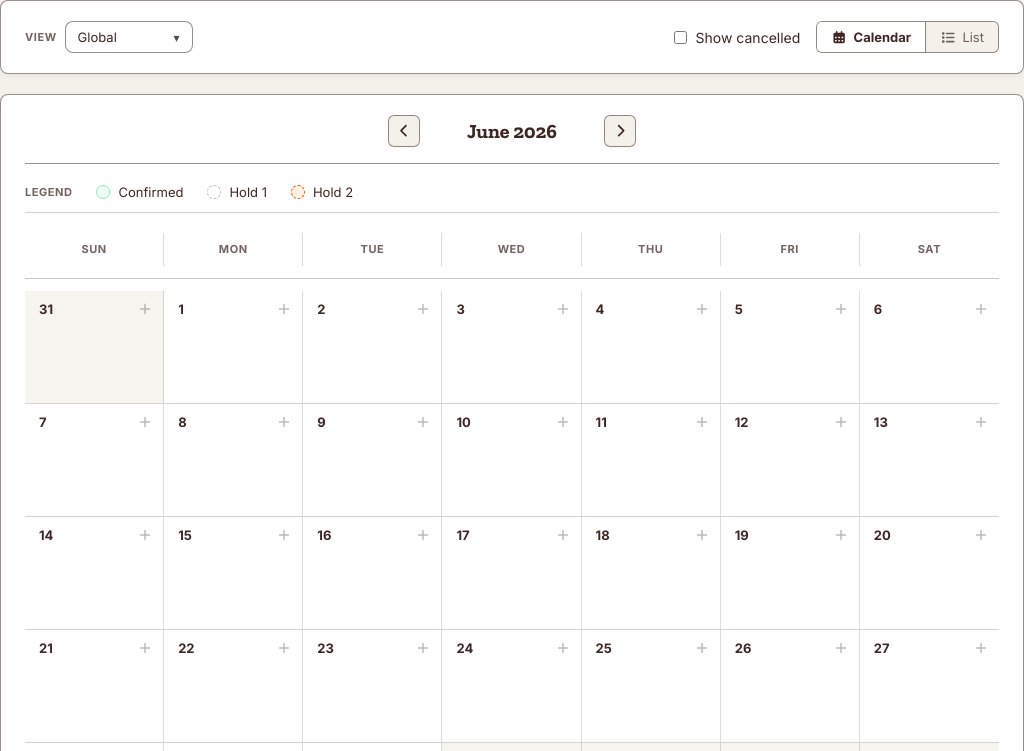
Test: BookingCalendarPage › opens placement type chooser from an empty day quick-add
The image size is (1024, 751).
What coordinates should you click on to do the following:
click the button with test id "booking-cell-quick-add-2026-06-15"
I would click on:
 (284, 535)
Its box is [274,525,294,545].
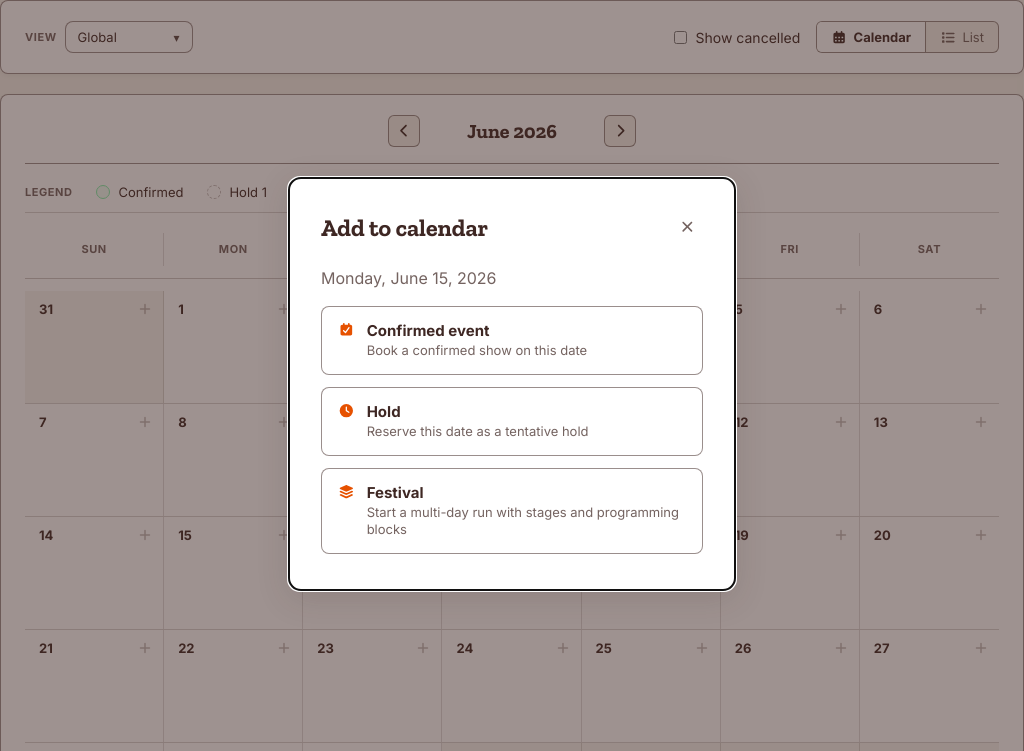
Expected: the dialog with test id "booking-placement-type-modal" is shown, [288,177,736,591]
